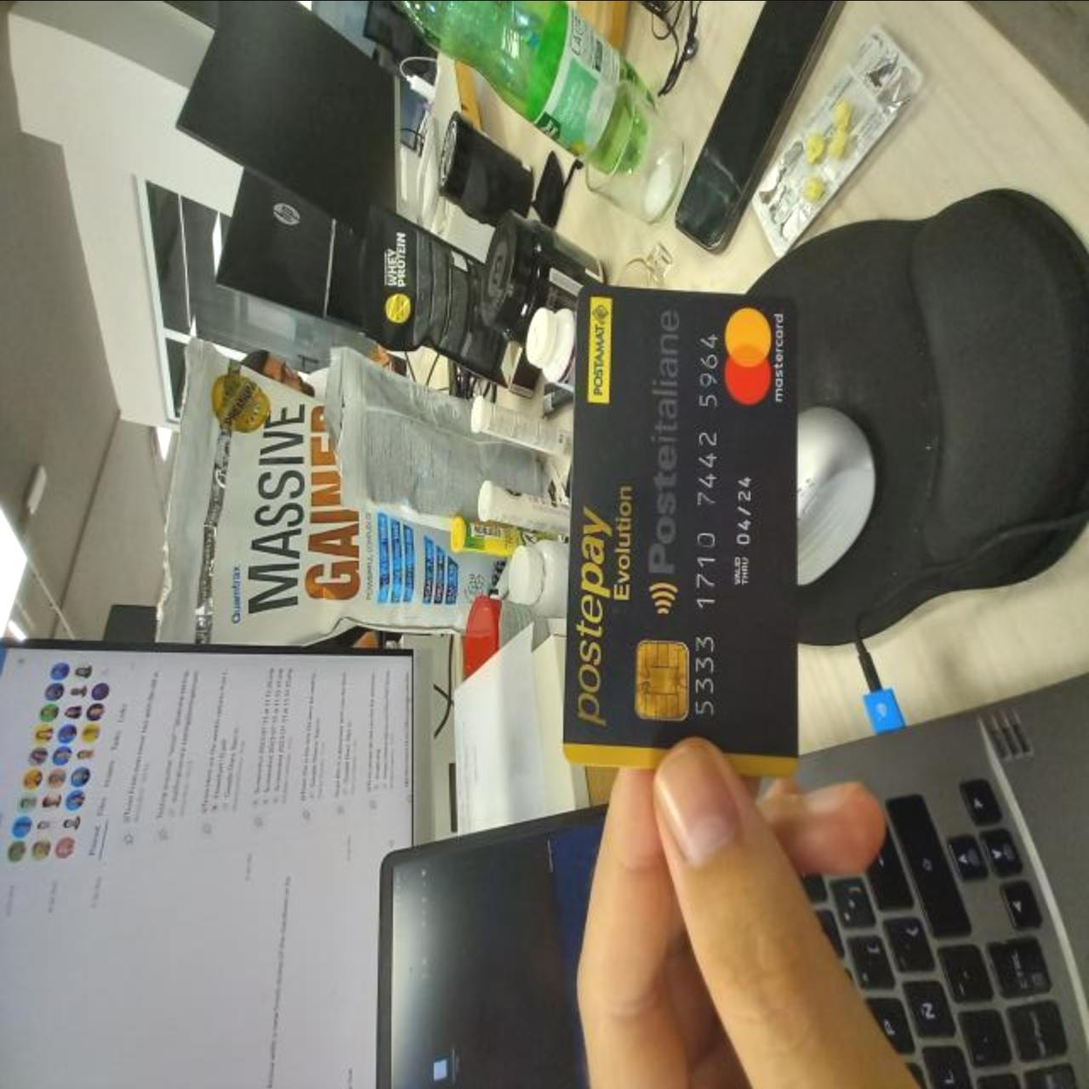credit_card: (565, 293, 790, 762)
